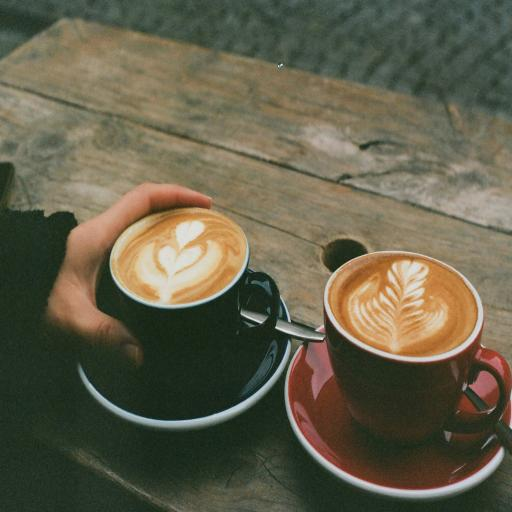cup: (323, 250, 512, 453)
